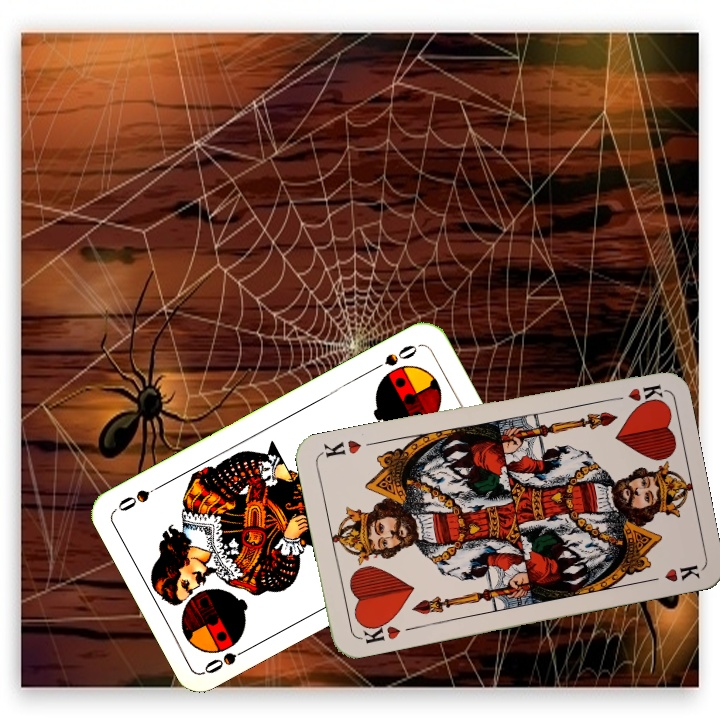HK: (356, 615, 403, 646), (604, 380, 664, 404)
SO: (200, 641, 256, 677), (368, 340, 423, 374)
